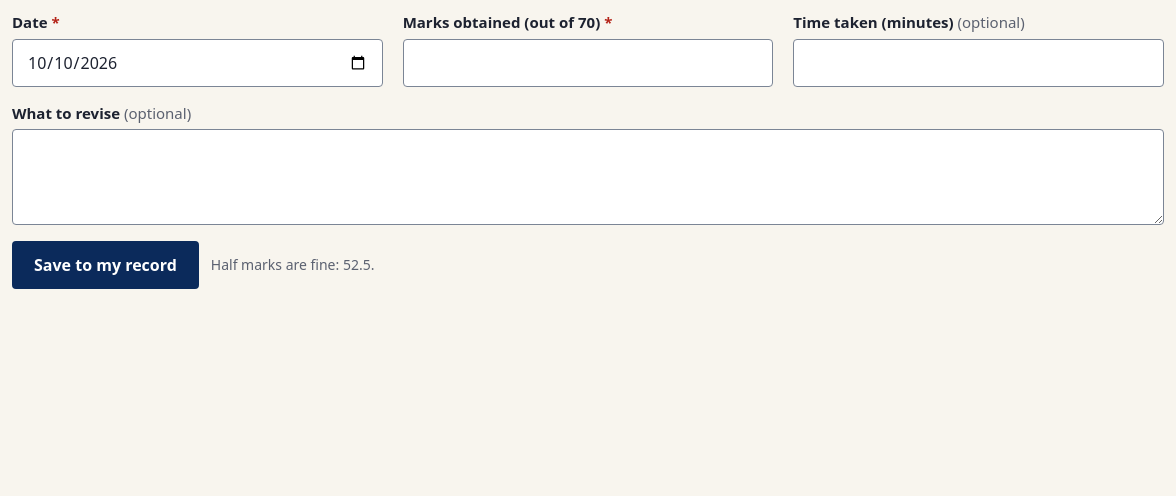
MarksForm's states › closes the form while a parent's consent is awaited, says why, and sends the link again
Type "40" into the field labelled "Marks obtained (out of 70) *" at (588, 63), box [403,39,773,87]
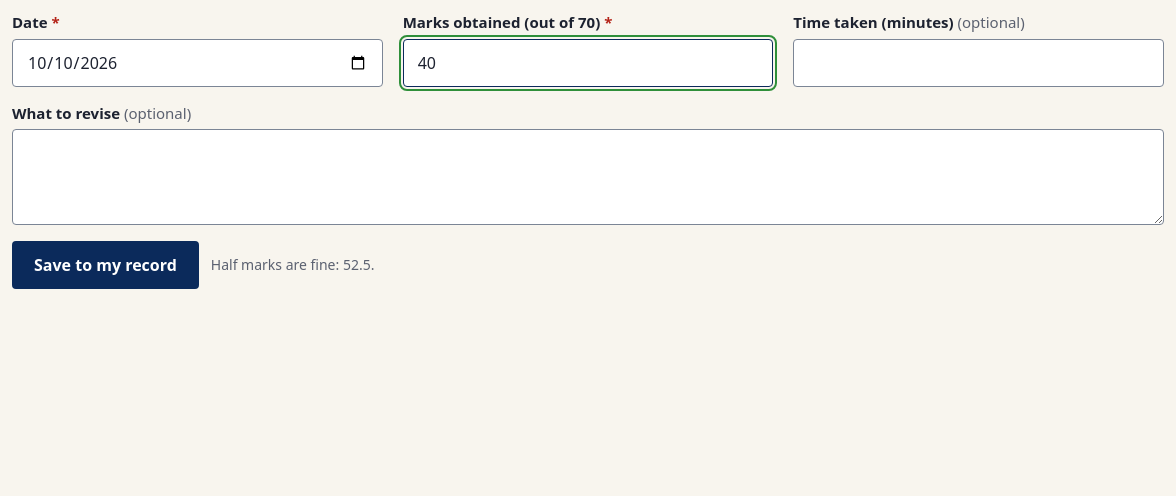
Click the button "Save to my record" at (105, 265), box [12,241,199,289]
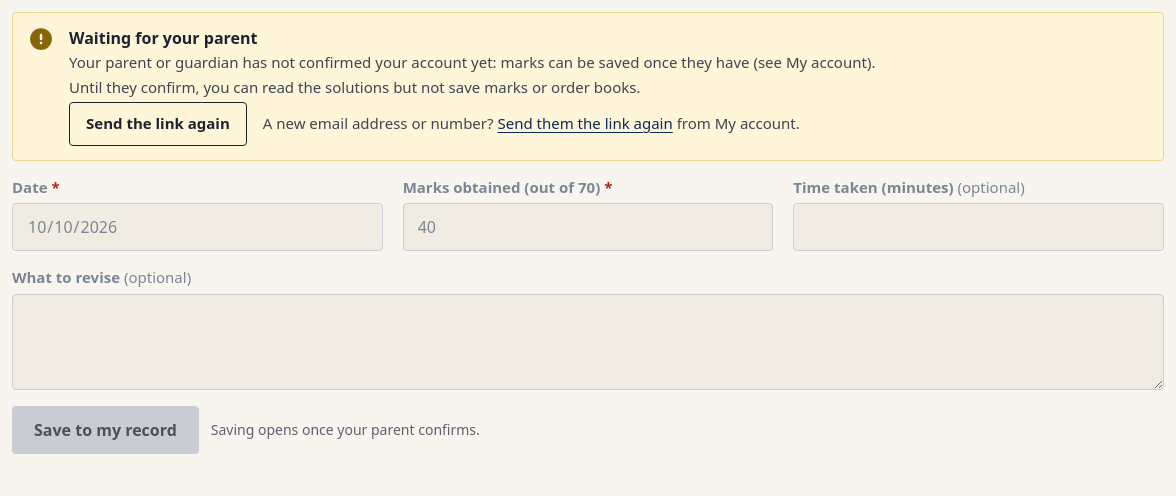
Check: the message shows "Waiting for your parent", box [69,27,257,49]
Check: the message shows "Your parent or guardian has not confirmed your account yet: marks can be saved once they have (see My account).", box [69,52,875,72]
Check: the text "Saving opens once your parent confirms." is shown, box [211,420,480,440]
Click the button "Send the link again" at (158, 124), box [69,102,247,146]
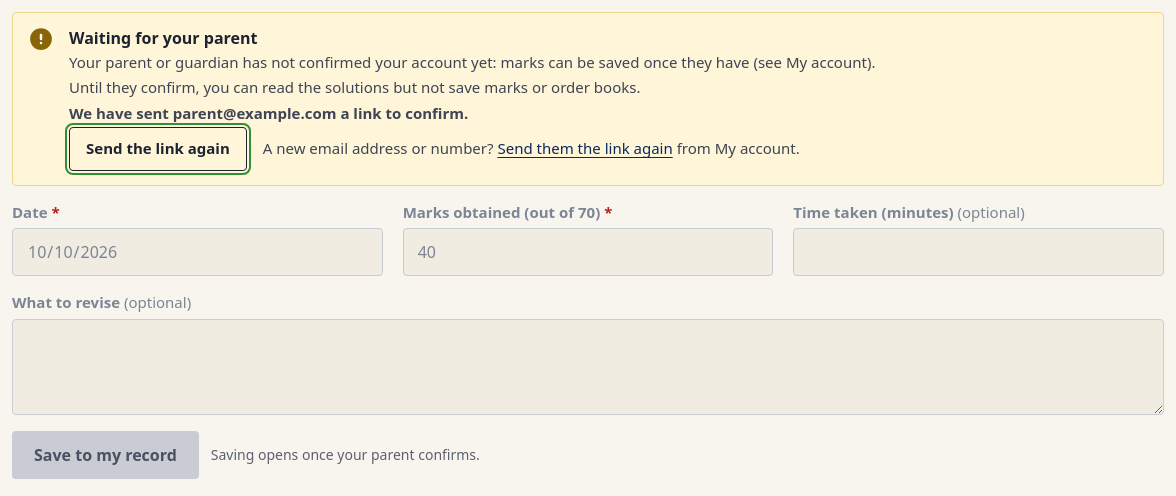
Check: the text "We have sent parent@example.com a link to confirm." is shown, box [69,102,468,122]
